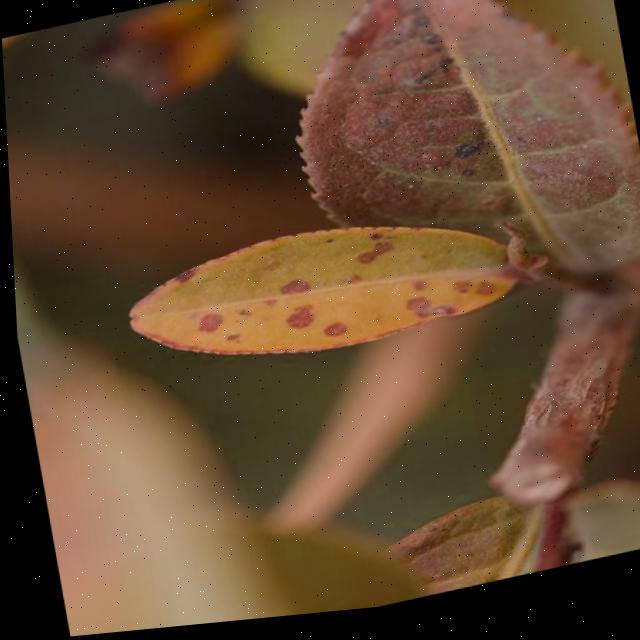Tea red scab: (170, 222, 495, 388)
